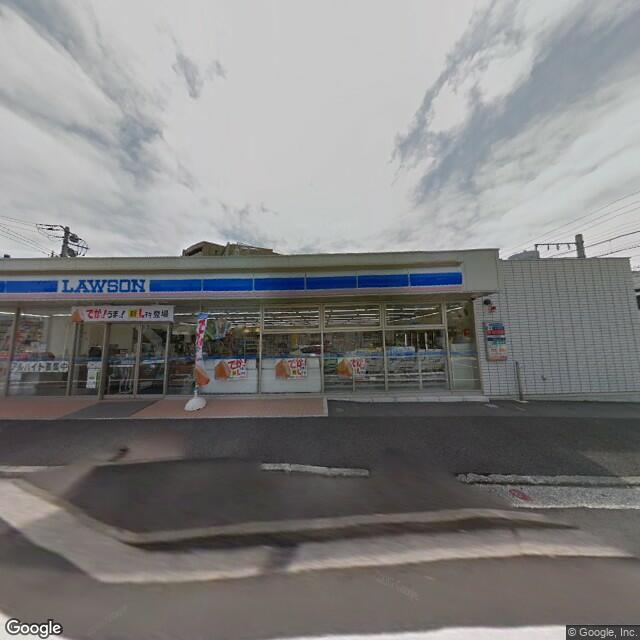lawson: (1, 264, 466, 297)
